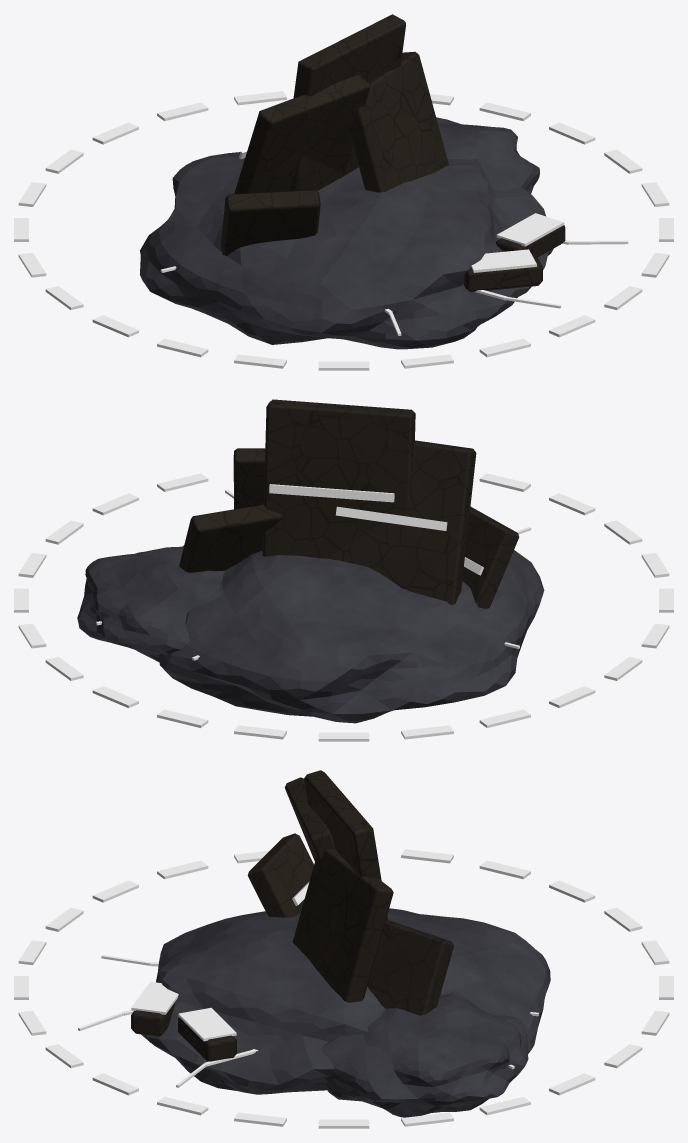
File: node_alloy.fbx
3 views of the same model, one above another, from view 1: azimuth 30°, elevation 25°; view 2: azimuth 150°, elevation 25°; view 3: azimuth 270°, elevation 25° (orthographic).
Visible parts, largest first — view 1: Hull, Glow; view 2: Hull, Glow; view 3: Hull, Glow.
Boxes of the visible parts, x1,y1,x2,y2 form: Hull: [140, 14, 565, 349]; Glow: [14, 91, 673, 370]; Hull: [77, 399, 544, 723]; Glow: [14, 473, 673, 741]; Hull: [131, 770, 550, 1117]; Glow: [14, 849, 673, 1128].
Bounding box in the file's own units: 2.66 × 1.2 × 2.66.
